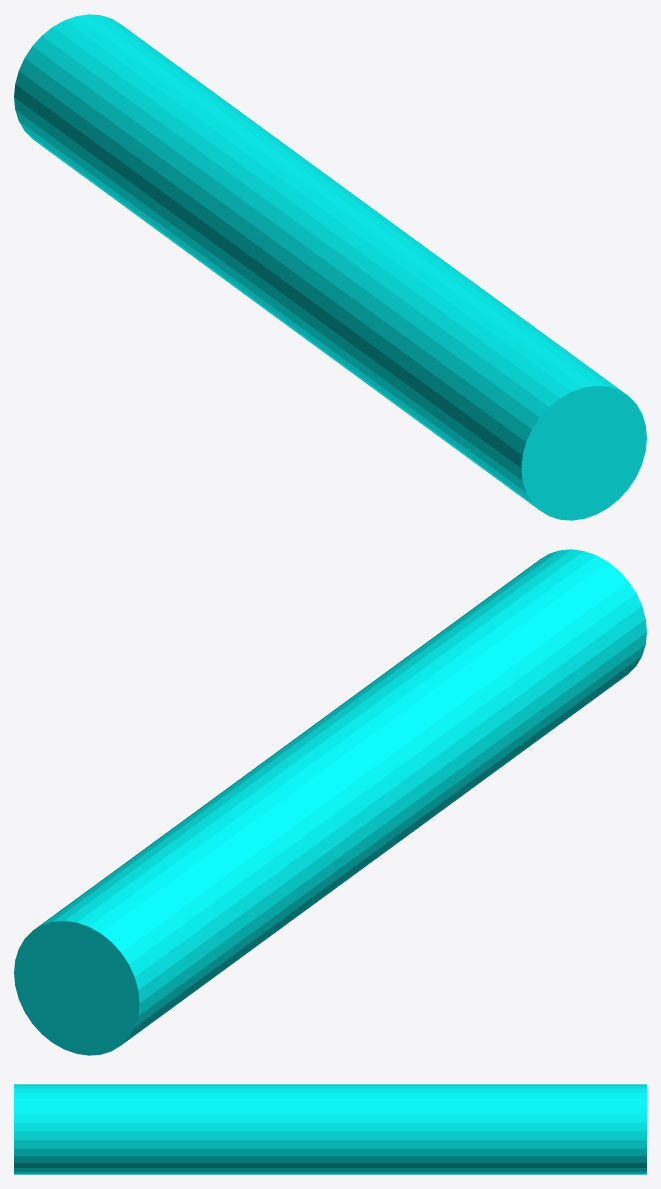
Rendered from maneuvering_vision.obj.
The picture shows the model from 3 angles, top to bottom: view 1: azimuth 30°, elevation 25°; view 2: azimuth 150°, elevation 25°; view 3: azimuth 270°, elevation 25°; orthographic projection. The views are drawn at different scales.
Visible parts, largest first — view 1: Cylinder.001; view 2: Cylinder.001; view 3: Cylinder.001.
Part boxes in pixels (left/top/right/bottom): Cylinder.001: left=14, top=14, right=646, bottom=520; Cylinder.001: left=14, top=549, right=646, bottom=1055; Cylinder.001: left=14, top=1084, right=646, bottom=1174.
Bounding box in the file's own units: 0.2032 × 0.2032 × 1.42.
